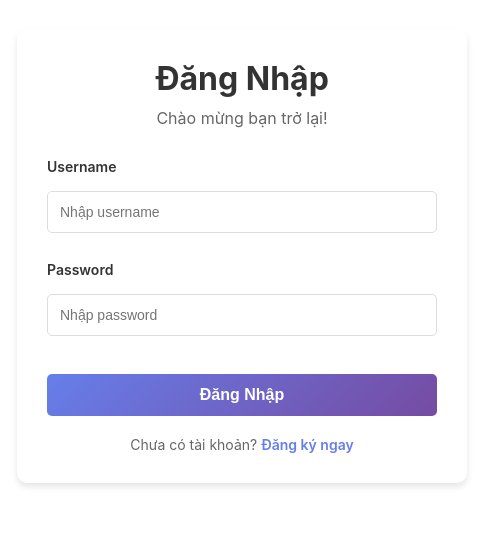
Test: Login E2E Tests › c) Nên hiển thị lỗi khi login fail (server error)
In the field with test id "username-input": (242,212) [47,191,437,233], type "wronguser"
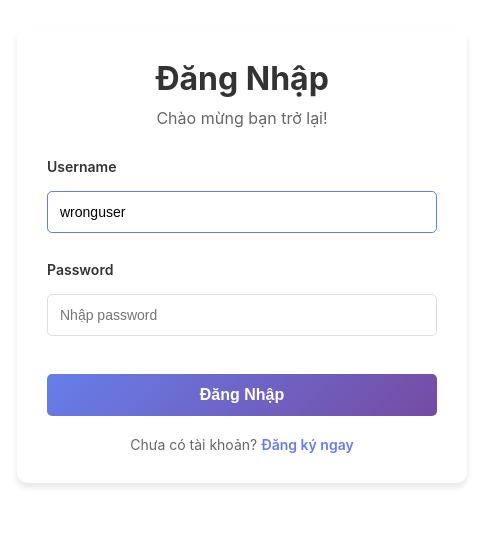
In the password field with test id "password-input": (242,315) [47,294,437,336], type "Wrong123"
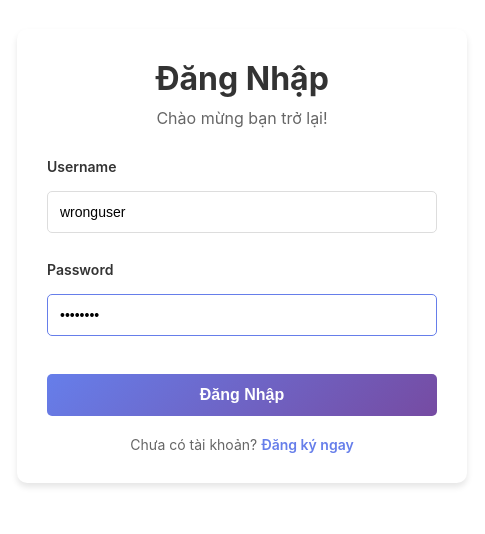
Click the button with test id "login-button": (242,395) [47,374,437,416]
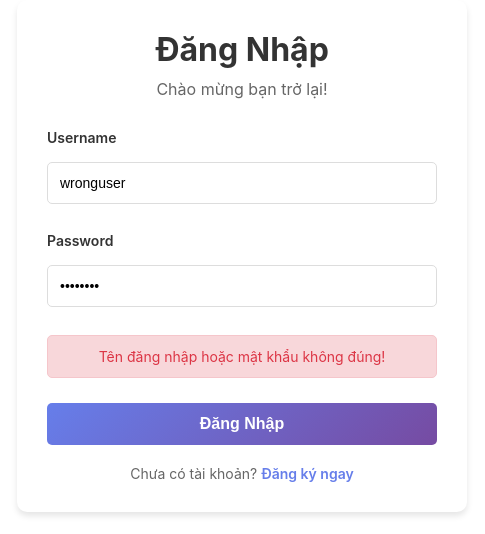
Result: the text "Tên đăng nhập hoặc mật khẩu không đúng!" is shown at [47,335,437,378]
